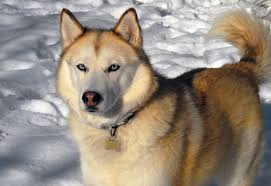husky: (52, 6, 161, 139)
